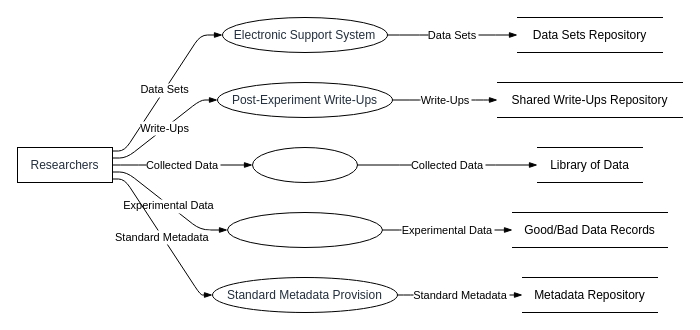
This 700x330 diagram has some shape labels left out. Each missing label, with the centre of its shape:
"Data Collection" belongs at [305,164].
"Log Book Management" belongs at [304,230].
